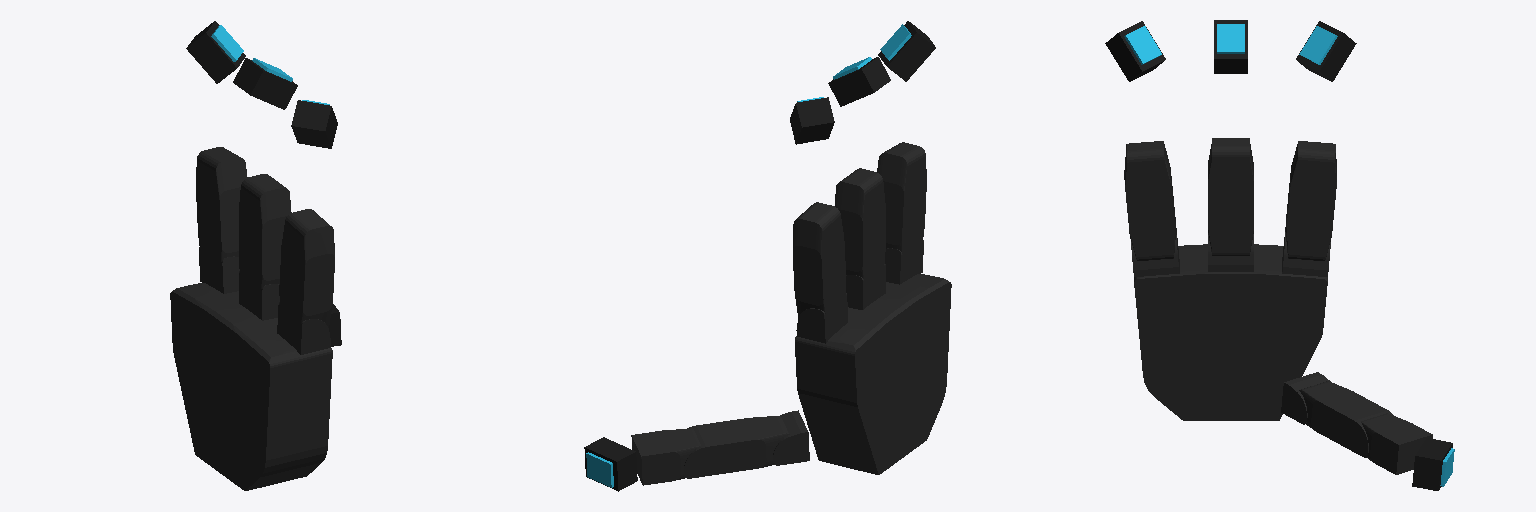
robot.urdf — allegro_right_digit_proxy:
<?xml version='1.0' encoding='utf-8'?>
<robot name="allegro_right_digit_proxy">
  
  
  
  
  
  
  
  <link name="base_link">
    <visual>
      <geometry>
        <mesh filename="meshes/allegro/base_link.obj" />
      </geometry>
      <origin rpy="0 0 0" xyz="0 0 0 " />
      <material name="black">
        <color rgba="0.2 0.2 0.2 1" />
      </material>
    </visual>
    <collision>
      <origin rpy="0 0 0" xyz="-0.009300 0 -0.0475" />
      <geometry>
        
        <box size="0.0408 0.1130 0.095" />
      </geometry>
    </collision>
    <inertial>
      <origin xyz="0 0 0.0475" rpy="0 0 0" />
      <mass value="0.4154" />
      <inertia ixx="1e-4" ixy="0.0" ixz="0.0" iyy="1e-4" iyz="0.0" izz="1e-4" />
    </inertial>
  </link>
  
  
  
  
  <link name="link_0.0">
    <visual>
      <geometry>
        <mesh filename="meshes/allegro/link_0.0.obj" />
      </geometry>
      <material name="black" />
    </visual>
    <collision>
      <geometry>
        <box size="0.0196 0.0275 0.0164" />
      </geometry>
      <origin rpy="0 0 0" xyz="0 0 0.0082" />
    </collision>
    <inertial>
      <mass value="0.0119" />
      <origin xyz="0 0 0" rpy="0 0 0" />
      <inertia ixx="1.01666658333e-06" ixy="0.0" ixz="0.0" iyy="6.47677333333e-07" iyz="0.0" izz="1.01666658333e-06" />
    </inertial>
  </link>
  <joint name="joint_0.0" type="revolute">
    <axis xyz="0 0 1" />
    <limit effort="0.35" lower="-0.47" upper="0.47" velocity="6.283" />
    <parent link="base_link" />
    <child link="link_0.0" />
    <origin rpy="-0.08726646255 0 0" xyz="0 0.0435 -0.001542" />
  </joint>
  <link name="link_1.0">
    <visual>
      <geometry>
        <mesh filename="meshes/allegro/link_1.0.obj" />
      </geometry>
      <material name="black" />
    </visual>
    <collision>
      <geometry>
        <box size="0.0196 0.0275 0.054" />
      </geometry>
      <origin rpy="0 0 0" xyz="0 0 0.027" />
    </collision>
    <inertial>
      <mass value="0.065" />
      <origin xyz="0 0 0" rpy="0 0 0" />
      <inertia ixx="7.95654166667e-05" ixy="1.7199e-05" ixz="8.75875e-06" iyy="2.47088833333e-05" iyz="2.413125e-05" izz="7.95654166667e-05" />
    </inertial>
  </link>
  <joint name="joint_1.0" type="revolute">
    <limit effort="0.35" lower="-0.196" upper="1.61" velocity="6.283" />
    <axis xyz="0 1 0" />
    <parent link="link_0.0" />
    <child link="link_1.0" />
    <origin xyz="0 0 0.0164" />
  </joint>
  <link name="link_2.0">
    <visual>
      <geometry>
        <mesh filename="meshes/allegro/link_2.0.obj" />
      </geometry>
      <material name="black" />
    </visual>
    <collision>
      <geometry>
        <box size="0.0196 0.0275 0.0384" />
      </geometry>
      <origin rpy="0 0 0" xyz="0 0 0.0192" />
    </collision>
    <inertial>
      <mass value="0.0355" />
      <origin xyz="0 0 0" rpy="0 0 0" />
      <inertia ixx="2.63979183333e-05" ixy="6.67968e-06" ixz="4.783625e-06" iyy="1.34948516667e-05" iyz="9.372e-06" izz="2.63979183333e-05" />
    </inertial>
  </link>
  <joint name="joint_2.0" type="revolute">
    <axis xyz="0 1 0" />
    <limit effort="0.35" lower="-0.174" upper="1.709" velocity="6.283" />
    <parent link="link_1.0" />
    <child link="link_2.0" />
    <origin xyz="0 0 0.054" />
  </joint>
  <link name="link_3.0">
    <visual>
      <geometry>
        <mesh filename="meshes/allegro/link_3.0.obj" />
      </geometry>
      <material name="black" />
    </visual>
    <collision>
      <geometry><box size="0.018 0.018 0.0267" /></geometry><origin rpy="0 0 0" xyz="0 0 0.01335" />
    </collision>
    <inertial>
      <mass value="0.0096" />
      <origin xyz="0 0 0" rpy="0 0 0" />
      <inertia ixx="4.701248e-06" ixy="1.255968e-06" ixz="1.2936e-06" iyy="3.649312e-06" iyz="1.7622e-06" izz="4.701248e-06" />
    </inertial>
  </link>
  <joint name="joint_3.0" type="revolute">
    <axis xyz="0 1 0" />
    <limit effort="0.35" lower="-0.227" upper="1.618" velocity="6.283" />
    <parent link="link_2.0" />
    <child link="link_3.0" />
    <origin xyz="0 0 0.0384" />
  </joint>
  <link name="link_4.0">
    <visual>
      <geometry>
        <mesh filename="meshes/allegro/link_0.0.obj" />
      </geometry>
      <material name="black" />
    </visual>
    <collision>
      <geometry>
        <box size="0.0196 0.0275 0.0164" />
      </geometry>
      <origin rpy="0 0 0" xyz="0 0 0.0082" />
    </collision>
    <inertial>
      <mass value="0.0119" />
      <origin xyz="0 0 0" rpy="0 0 0" />
      <inertia ixx="1.01666658333e-06" ixy="0.0" ixz="0.0" iyy="6.47677333333e-07" iyz="0.0" izz="1.01666658333e-06" />
    </inertial>
  </link>
  <joint name="joint_4.0" type="revolute">
    <axis xyz="0 0 1" />
    <limit effort="0.35" lower="-0.47" upper="0.47" velocity="6.283" />
    <parent link="base_link" />
    <child link="link_4.0" />
    <origin rpy="0.0 0 0" xyz="0 0 0.0007" />
  </joint>
  <link name="link_5.0">
    <visual>
      <geometry>
        <mesh filename="meshes/allegro/link_1.0.obj" />
      </geometry>
      <material name="black" />
    </visual>
    <collision>
      <geometry>
        <box size="0.0196 0.0275 0.054" />
      </geometry>
      <origin rpy="0 0 0" xyz="0 0 0.027" />
    </collision>
    <inertial>
      <mass value="0.065" />
      <origin xyz="0 0 0" rpy="0 0 0" />
      <inertia ixx="7.95654166667e-05" ixy="1.7199e-05" ixz="8.75875e-06" iyy="2.47088833333e-05" iyz="2.413125e-05" izz="7.95654166667e-05" />
    </inertial>
  </link>
  <joint name="joint_5.0" type="revolute">
    <limit effort="0.35" lower="-0.196" upper="1.61" velocity="6.283" />
    <axis xyz="0 1 0" />
    <parent link="link_4.0" />
    <child link="link_5.0" />
    <origin xyz="0 0 0.0164" />
  </joint>
  <link name="link_6.0">
    <visual>
      <geometry>
        <mesh filename="meshes/allegro/link_2.0.obj" />
      </geometry>
      <material name="black" />
    </visual>
    <collision>
      <geometry>
        <box size="0.0196 0.0275 0.0384" />
      </geometry>
      <origin rpy="0 0 0" xyz="0 0 0.0192" />
    </collision>
    <inertial>
      <mass value="0.0355" />
      <origin xyz="0 0 0" rpy="0 0 0" />
      <inertia ixx="2.63979183333e-05" ixy="6.67968e-06" ixz="4.783625e-06" iyy="1.34948516667e-05" iyz="9.372e-06" izz="2.63979183333e-05" />
    </inertial>
  </link>
  <joint name="joint_6.0" type="revolute">
    <axis xyz="0 1 0" />
    <limit effort="0.35" lower="-0.174" upper="1.709" velocity="6.283" />
    <parent link="link_5.0" />
    <child link="link_6.0" />
    <origin xyz="0 0 0.054" />
  </joint>
  <link name="link_7.0">
    <visual>
      <geometry>
        <mesh filename="meshes/allegro/link_3.0.obj" />
      </geometry>
      <material name="black" />
    </visual>
    <collision>
      <geometry><box size="0.018 0.018 0.0267" /></geometry><origin rpy="0 0 0" xyz="0 0 0.01335" />
    </collision>
    <inertial>
      <mass value="0.0096" />
      <origin xyz="0 0 0" rpy="0 0 0" />
      <inertia ixx="4.701248e-06" ixy="1.255968e-06" ixz="1.2936e-06" iyy="3.649312e-06" iyz="1.7622e-06" izz="4.701248e-06" />
    </inertial>
  </link>
  <joint name="joint_7.0" type="revolute">
    <axis xyz="0 1 0" />
    <limit effort="0.35" lower="-0.227" upper="1.618" velocity="6.283" />
    <parent link="link_6.0" />
    <child link="link_7.0" />
    <origin xyz="0 0 0.0384" />
  </joint>
  <link name="link_8.0">
    <visual>
      <geometry>
        <mesh filename="meshes/allegro/link_0.0.obj" />
      </geometry>
      <material name="black" />
    </visual>
    <collision>
      <geometry>
        <box size="0.0196 0.0275 0.0164" />
      </geometry>
      <origin rpy="0 0 0" xyz="0 0 0.0082" />
    </collision>
    <inertial>
      <mass value="0.0119" />
      <origin xyz="0 0 0" rpy="0 0 0" />
      <inertia ixx="1.01666658333e-06" ixy="0.0" ixz="0.0" iyy="6.47677333333e-07" iyz="0.0" izz="1.01666658333e-06" />
    </inertial>
  </link>
  <joint name="joint_8.0" type="revolute">
    <axis xyz="0 0 1" />
    <limit effort="0.35" lower="-0.47" upper="0.47" velocity="6.283" />
    <parent link="base_link" />
    <child link="link_8.0" />
    <origin rpy="0.08726646255 0 0" xyz="0 -0.0435 -0.001542" />
  </joint>
  <link name="link_9.0">
    <visual>
      <geometry>
        <mesh filename="meshes/allegro/link_1.0.obj" />
      </geometry>
      <material name="black" />
    </visual>
    <collision>
      <geometry>
        <box size="0.0196 0.0275 0.054" />
      </geometry>
      <origin rpy="0 0 0" xyz="0 0 0.027" />
    </collision>
    <inertial>
      <mass value="0.065" />
      <origin xyz="0 0 0" rpy="0 0 0" />
      <inertia ixx="7.95654166667e-05" ixy="1.7199e-05" ixz="8.75875e-06" iyy="2.47088833333e-05" iyz="2.413125e-05" izz="7.95654166667e-05" />
    </inertial>
  </link>
  <joint name="joint_9.0" type="revolute">
    <limit effort="0.35" lower="-0.196" upper="1.61" velocity="6.283" />
    <axis xyz="0 1 0" />
    <parent link="link_8.0" />
    <child link="link_9.0" />
    <origin xyz="0 0 0.0164" />
  </joint>
  <link name="link_10.0">
    <visual>
      <geometry>
        <mesh filename="meshes/allegro/link_2.0.obj" />
      </geometry>
      <material name="black" />
    </visual>
    <collision>
      <geometry>
        <box size="0.0196 0.0275 0.0384" />
      </geometry>
      <origin rpy="0 0 0" xyz="0 0 0.0192" />
    </collision>
    <inertial>
      <mass value="0.0355" />
      <origin xyz="0 0 0" rpy="0 0 0" />
      <inertia ixx="2.63979183333e-05" ixy="6.67968e-06" ixz="4.783625e-06" iyy="1.34948516667e-05" iyz="9.372e-06" izz="2.63979183333e-05" />
    </inertial>
  </link>
  <joint name="joint_10.0" type="revolute">
    <axis xyz="0 1 0" />
    <limit effort="0.35" lower="-0.174" upper="1.709" velocity="6.283" />
    <parent link="link_9.0" />
    <child link="link_10.0" />
    <origin xyz="0 0 0.054" />
  </joint>
  <link name="link_11.0">
    <visual>
      <geometry>
        <mesh filename="meshes/allegro/link_3.0.obj" />
      </geometry>
      <material name="black" />
    </visual>
    <collision>
      <geometry><box size="0.018 0.018 0.0267" /></geometry><origin rpy="0 0 0" xyz="0 0 0.01335" />
    </collision>
    <inertial>
      <mass value="0.0096" />
      <origin xyz="0 0 0" rpy="0 0 0" />
      <inertia ixx="4.701248e-06" ixy="1.255968e-06" ixz="1.2936e-06" iyy="3.649312e-06" iyz="1.7622e-06" izz="4.701248e-06" />
    </inertial>
  </link>
  <joint name="joint_11.0" type="revolute">
    <axis xyz="0 1 0" />
    <limit effort="0.35" lower="-0.227" upper="1.618" velocity="6.283" />
    <parent link="link_10.0" />
    <child link="link_11.0" />
    <origin xyz="0 0 0.0384" />
  </joint>
  <link name="link_12.0">
    <visual>
      <geometry>
        <mesh filename="meshes/allegro/link_12.0_right.obj" />
      </geometry>
      <material name="black">
        <color rgba=".2 .2 .2 1" />
      </material>
      <origin rpy="3.1415926518 0 0" xyz="0 0 0" />
    </visual>
    <collision>
      <geometry>
        <box size="0.0358 0.034 0.0455" />
      </geometry>
      <origin rpy="0 0 0" xyz="-0.0179 0.009 0.0145" />
    </collision>
    <inertial>
      <mass value="0.0176" />
      <origin xyz="0 0 0" rpy="0 0 0" />
      <inertia ixx="1.89273333333e-5" ixy="7.16716e-06" ixz="5.35568e-06" iyy="1.43008213333e-05" iyz="6.8068e-06" izz="1.89273333333e-05" />
    </inertial>
  </link>
  <joint name="joint_12.0" type="revolute">
    <axis xyz="-1 0 0" />
    <limit effort="0.35" lower="0.263" upper="1.396" velocity="6.283" />
    <parent link="base_link" />
    <child link="link_12.0" />
    <origin rpy="0 -1.65806278845 -1.5707963259" xyz="-0.0182 0.019333 -0.045987" />
  </joint>
  <link name="link_13.0">
    <visual>
      <geometry>
        <mesh filename="meshes/allegro/link_13.0.obj" />
      </geometry>
      <material name="black">
        <color rgba=".2 .2 .2 1" />
      </material>
    </visual>
    <collision>
      <geometry>
        <box size="0.0196 0.0275 0.0177" />
      </geometry>
      <origin rpy="0 0 0" xyz="0 0 0.00885" />
    </collision>
    <inertial>
      <mass value="0.0119" />
      <origin xyz="0 0 0" rpy="0 0 0" />
      <inertia ixx="4.24250866667e-06" ixy="1.032087e-06" ixz="1.603525e-06" iyy="4.52362633333e-06" iyz="1.44808125e-06" izz="4.24250866667e-06" />
    </inertial>
  </link>
  <joint name="joint_13.0" type="revolute">
    <axis xyz="0 0 1" />
    <limit effort="0.35" lower="-0.105" upper="1.163" velocity="6.283" />
    <parent link="link_12.0" />
    <child link="link_13.0" />
    
    <origin xyz="-0.027 0.005 0.0399" />
    
    
  </joint>
  <link name="link_14.0">
    <visual>
      <geometry>
        <mesh filename="meshes/allegro/link_14.0.obj" />
      </geometry>
      <material name="black">
      </material>
    </visual>
    <collision>
      <geometry>
        <box size="0.0196 0.0275 0.0514" />
      </geometry>
      <origin rpy="0 0 0" xyz="0 0 0.0257" />
    </collision>
    <inertial>
      <mass value="0.038" />
      <origin xyz="0 0 0" rpy="0 0 0" />
      <inertia ixx="4.30439933333e-05" ixy="9.57068e-06" ixz="5.1205e-06" iyy="1.44451933333e-05" iyz="1.342825e-05" izz="4.30439933333e-05" />
    </inertial>
  </link>
  <joint name="joint_14.0" type="revolute">
    <axis xyz="0 1 0" />
    <limit effort="0.35" lower="-0.189" upper="1.644" velocity="6.283" />
    <parent link="link_13.0" />
    <child link="link_14.0" />
    <origin xyz="0 0 0.0177" />
  </joint>
  <link name="link_15.0">
    <visual>
      <geometry>
        <mesh filename="meshes/allegro/link_15.0.obj" />
      </geometry>
      <material name="black">
      </material>
    </visual>
    <collision>
      <geometry><box size="0.018 0.018 0.0423" /></geometry><origin rpy="0 0 0" xyz="0 0 0.02115" />
    </collision>
    <inertial>
      <mass value="0.0388" />
      <origin xyz="0 0 0" rpy="0 0 0" />
      <inertia ixx="3.29223173333e-05" ixy="8.042076e-06" ixz="5.2283e-06" iyy="1.47493026667e-5" iyz="1.1283525e-5" izz="3.29223173333e-05" />
    </inertial>
  </link>
  <joint name="joint_15.0" type="revolute">
    <axis xyz="0 1 0" />
    <limit effort="0.35" lower="-0.162" upper="1.719" velocity="6.283" />
    <parent link="link_14.0" />
    <child link="link_15.0" />
    <origin xyz="0 0 0.0514" />
  </joint>
  <link name="digit_index_housing"><inertial><mass value="0.02" /><inertia ixx="1.8816666666666667e-06" iyy="1.6416666666666667e-06" izz="1.0933333333333334e-06" ixy="0" ixz="0" iyz="0" /></inertial><visual><geometry><box size="0.016 0.02 0.027" /></geometry><material name="digit_index_housing"><color rgba="0.15 0.15 0.15 1" /></material></visual><collision><geometry><box size="0.016 0.02 0.027" /></geometry></collision></link><link name="digit_index_gel"><inertial><mass value="0.002" /><inertia ixx="1.0933333333333335e-07" iyy="6.733333333333334e-08" izz="4.333333333333333e-08" ixy="0" ixz="0" iyz="0" /></inertial><visual><geometry><box size="0.002 0.016 0.02" /></geometry><material name="digit_index_gel"><color rgba="0.2 0.75 0.9 1" /></material></visual><collision><geometry><box size="0.002 0.016 0.02" /></geometry></collision></link><joint name="digit_index_housing_mount" type="fixed"><parent link="link_3.0" /><child link="digit_index_housing" /><origin xyz="0.0 0.0 0.032" rpy="0.0 -0.7 -0.785398" /></joint><joint name="digit_index_gel_mount" type="fixed"><parent link="digit_index_housing" /><child link="digit_index_gel" /><origin xyz="0.0091 0 0" rpy="0 0 0" /></joint><link name="digit_middle_housing"><inertial><mass value="0.02" /><inertia ixx="1.8816666666666667e-06" iyy="1.6416666666666667e-06" izz="1.0933333333333334e-06" ixy="0" ixz="0" iyz="0" /></inertial><visual><geometry><box size="0.016 0.02 0.027" /></geometry><material name="digit_middle_housing"><color rgba="0.15 0.15 0.15 1" /></material></visual><collision><geometry><box size="0.016 0.02 0.027" /></geometry></collision></link><link name="digit_middle_gel"><inertial><mass value="0.002" /><inertia ixx="1.0933333333333335e-07" iyy="6.733333333333334e-08" izz="4.333333333333333e-08" ixy="0" ixz="0" iyz="0" /></inertial><visual><geometry><box size="0.002 0.016 0.02" /></geometry><material name="digit_middle_gel"><color rgba="0.2 0.75 0.9 1" /></material></visual><collision><geometry><box size="0.002 0.016 0.02" /></geometry></collision></link><joint name="digit_middle_housing_mount" type="fixed"><parent link="link_7.0" /><child link="digit_middle_housing" /><origin xyz="0.0 0.0 0.032" rpy="0.0 -1.0 0.0" /></joint><joint name="digit_middle_gel_mount" type="fixed"><parent link="digit_middle_housing" /><child link="digit_middle_gel" /><origin xyz="0.0091 0 0" rpy="0 0 0" /></joint><link name="digit_ring_housing"><inertial><mass value="0.02" /><inertia ixx="1.8816666666666667e-06" iyy="1.6416666666666667e-06" izz="1.0933333333333334e-06" ixy="0" ixz="0" iyz="0" /></inertial><visual><geometry><box size="0.016 0.02 0.027" /></geometry><material name="digit_ring_housing"><color rgba="0.15 0.15 0.15 1" /></material></visual><collision><geometry><box size="0.016 0.02 0.027" /></geometry></collision></link><link name="digit_ring_gel"><inertial><mass value="0.002" /><inertia ixx="1.0933333333333335e-07" iyy="6.733333333333334e-08" izz="4.333333333333333e-08" ixy="0" ixz="0" iyz="0" /></inertial><visual><geometry><box size="0.002 0.016 0.02" /></geometry><material name="digit_ring_gel"><color rgba="0.2 0.75 0.9 1" /></material></visual><collision><geometry><box size="0.002 0.016 0.02" /></geometry></collision></link><joint name="digit_ring_housing_mount" type="fixed"><parent link="link_11.0" /><child link="digit_ring_housing" /><origin xyz="0.0 0.0 0.032" rpy="0.0 -0.7 0.785398" /></joint><joint name="digit_ring_gel_mount" type="fixed"><parent link="digit_ring_housing" /><child link="digit_ring_gel" /><origin xyz="0.0091 0 0" rpy="0 0 0" /></joint><link name="digit_thumb_housing"><inertial><mass value="0.02" /><inertia ixx="1.8816666666666667e-06" iyy="1.6416666666666667e-06" izz="1.0933333333333334e-06" ixy="0" ixz="0" iyz="0" /></inertial><visual><geometry><box size="0.016 0.02 0.027" /></geometry><material name="digit_thumb_housing"><color rgba="0.15 0.15 0.15 1" /></material></visual><collision><geometry><box size="0.016 0.02 0.027" /></geometry></collision></link><link name="digit_thumb_gel"><inertial><mass value="0.002" /><inertia ixx="1.0933333333333335e-07" iyy="6.733333333333334e-08" izz="4.333333333333333e-08" ixy="0" ixz="0" iyz="0" /></inertial><visual><geometry><box size="0.002 0.016 0.02" /></geometry><material name="digit_thumb_gel"><color rgba="0.2 0.75 0.9 1" /></material></visual><collision><geometry><box size="0.002 0.016 0.02" /></geometry></collision></link><joint name="digit_thumb_housing_mount" type="fixed"><parent link="link_15.0" /><child link="digit_thumb_housing" /><origin xyz="0.0 0.0 0.047" rpy="0.0 -1.0 -1.570796" /></joint><joint name="digit_thumb_gel_mount" type="fixed"><parent link="digit_thumb_housing" /><child link="digit_thumb_gel" /><origin xyz="0.0091 0 0" rpy="0 0 0" /></joint></robot>

--- What the picture shows (computed from the rendered views, not written in the file) ---
Views: 3 orthographic renders of the robot side by side, from view 1: azimuth 30°, elevation 25°; view 2: azimuth 150°, elevation 25°; view 3: azimuth 270°, elevation 25°.
Robot: allegro_right_digit_proxy — 25 links, 24 joints (16 revolute, 8 fixed); root link base_link; default pose: joints at zero except 1 at the middle of their limits (joint_12.0 = 0.8295).
Links seen in each view (by area): view 1: base_link, link_9.0, link_5.0, link_1.0, digit_ring_housing, digit_middle_housing, digit_index_housing, link_8.0, link_0.0, link_4.0, digit_index_gel; view 2: base_link, link_1.0, link_14.0, link_5.0, link_9.0, link_15.0, digit_index_housing, digit_middle_housing, digit_thumb_housing, digit_ring_housing, link_13.0, link_0.0 (+3 smaller); view 3: base_link, link_9.0, link_1.0, link_5.0, link_14.0, link_15.0, digit_thumb_housing, digit_ring_housing, digit_index_housing, link_13.0, digit_middle_housing, link_0.0 (+5 smaller).
Link boxes in pixels (x1=…): base_link: x1=170, y1=283, x2=332, y2=490; link_9.0: x1=279, y1=209, x2=334, y2=327; link_5.0: x1=239, y1=174, x2=291, y2=298; link_1.0: x1=196, y1=147, x2=247, y2=262; digit_ring_housing: x1=291, y1=100, x2=337, y2=148; digit_middle_housing: x1=233, y1=58, x2=297, y2=109; digit_index_housing: x1=186, y1=21, x2=245, y2=83; link_8.0: x1=277, y1=302, x2=330, y2=354; link_0.0: x1=199, y1=247, x2=239, y2=293; link_4.0: x1=239, y1=271, x2=279, y2=320; digit_index_gel: x1=211, y1=25, x2=243, y2=61; base_link: x1=795, y1=273, x2=951, y2=474; link_1.0: x1=793, y1=202, x2=845, y2=321; link_14.0: x1=684, y1=416, x2=789, y2=478; link_5.0: x1=835, y1=168, x2=885, y2=280; link_9.0: x1=877, y1=142, x2=926, y2=263; link_15.0: x1=631, y1=428, x2=700, y2=485; digit_index_housing: x1=790, y1=97, x2=834, y2=144; digit_middle_housing: x1=828, y1=57, x2=890, y2=106; digit_thumb_housing: x1=584, y1=437, x2=637, y2=491; digit_ring_housing: x1=878, y1=21, x2=935, y2=81; link_13.0: x1=773, y1=410, x2=809, y2=465; link_0.0: x1=796, y1=293, x2=847, y2=343; base_link: x1=1134, y1=244, x2=1327, y2=420; link_9.0: x1=1124, y1=141, x2=1175, y2=260; link_1.0: x1=1286, y1=141, x2=1336, y2=260; link_5.0: x1=1208, y1=138, x2=1253, y2=255; link_14.0: x1=1299, y1=381, x2=1393, y2=457; link_15.0: x1=1361, y1=413, x2=1432, y2=474; digit_thumb_housing: x1=1412, y1=438, x2=1452, y2=490; digit_ring_housing: x1=1105, y1=21, x2=1165, y2=81; digit_index_housing: x1=1296, y1=21, x2=1356, y2=81; link_13.0: x1=1281, y1=372, x2=1330, y2=424; digit_middle_housing: x1=1214, y1=20, x2=1247, y2=73; link_0.0: x1=1282, y1=227, x2=1330, y2=276.
Size in the robot's own frame: 0.1448 by 0.2049 by 0.2505 metres.
10 mesh visuals loaded from 9 distinct referenced files (6 OBJ); not drawn: 7 (reference not matched to a file when rendering).
